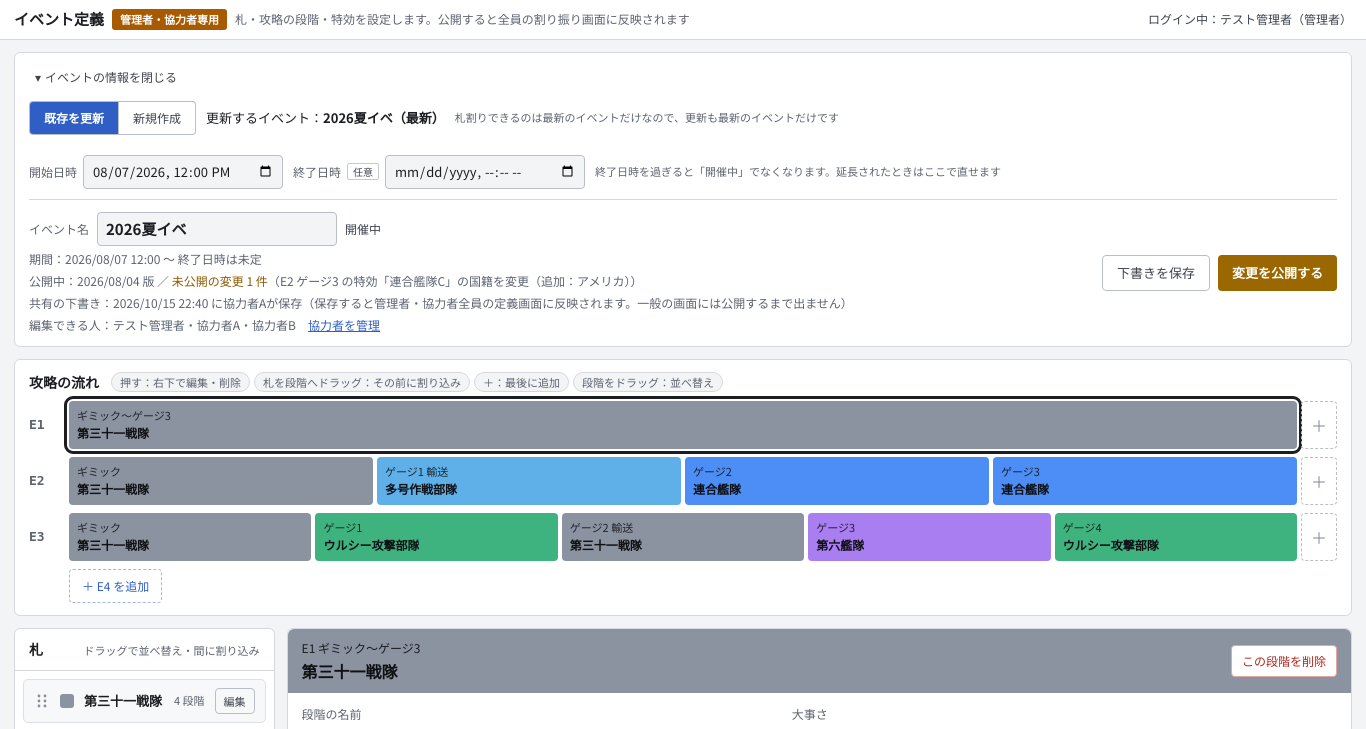
Test: イベント定義の画面（PlanEditor）：特効グループの艦種（v1.1。国籍の条件を絞る） › 艦種を選ぶ欄（「＋ 艦種」） › 「＋ 艦種」で艦種を選ぶ欄を開き、19 個のチェックボックスを表示名で、戦艦・航戦・正空…工作の順に並べる
Check: the element "攻略の流れ" is shown, box [14,358,1352,616]
What coordinates should you click on to do the following:
click the button "ゲージ3 連合艦隊"
I would click on:
 (1020, 470)
Its box is [993,456,1297,504].
(page scrolled)
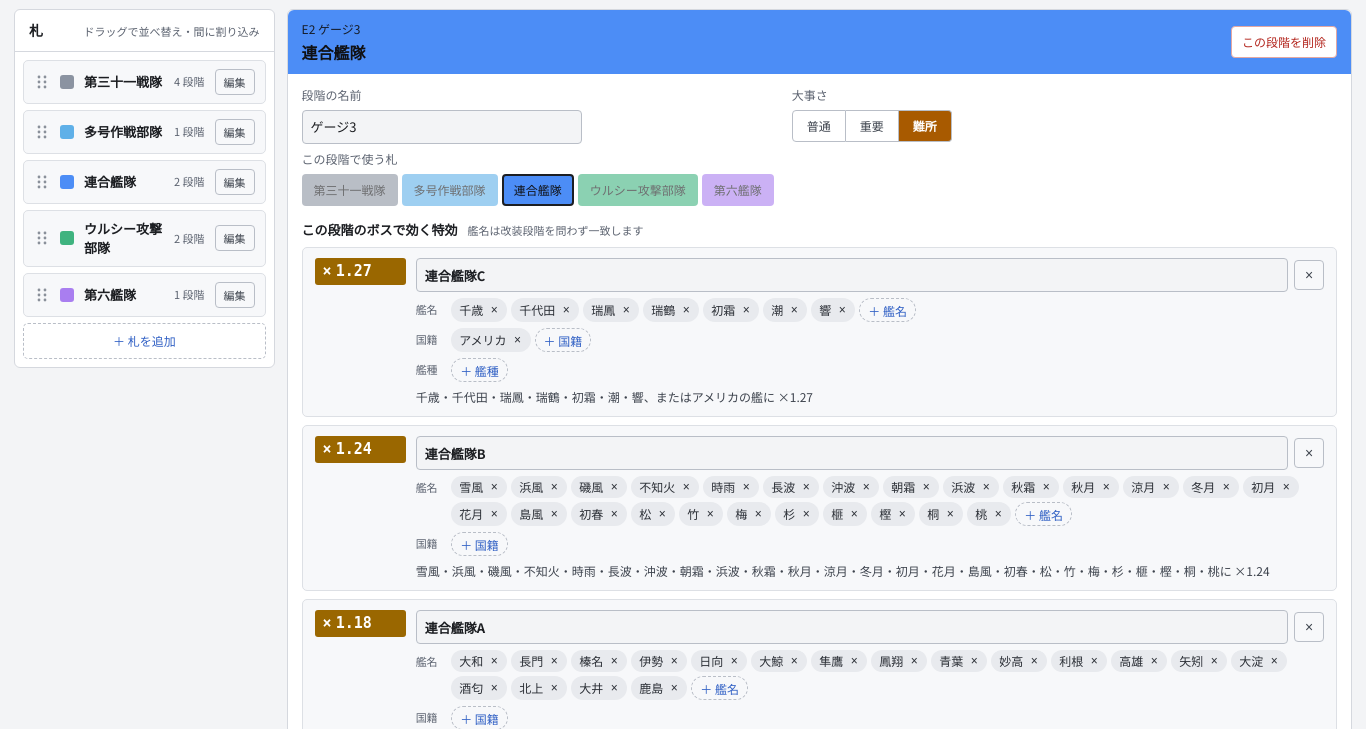
What coordinates should you click on to do the following:
click the button "＋ 艦種"
I would click on:
 (479, 370)
Its box is [451,358,508,382].
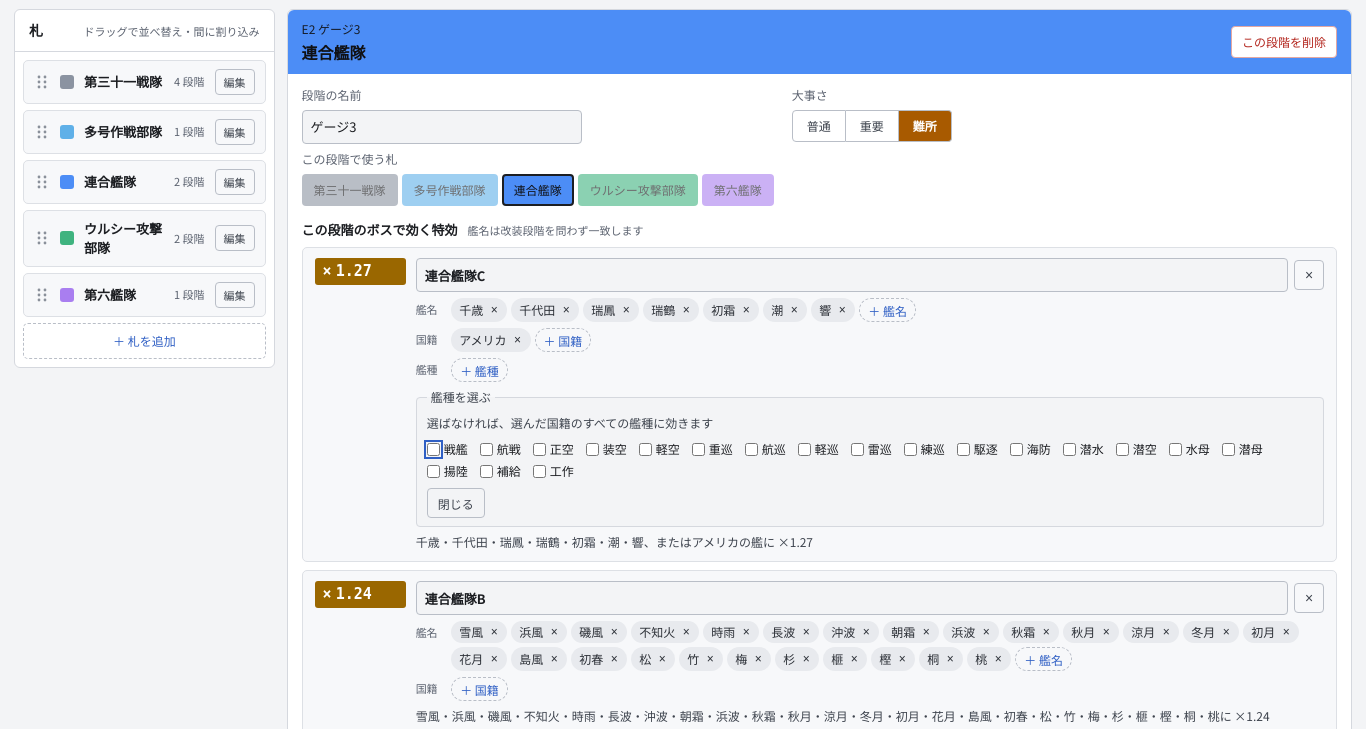
Check: the number of checkboxes is 19
Check: the checkbox labelled "戦艦" is not checked, box [427,442,440,456]
Check: the checkbox labelled "航戦" is not checked, box [480,442,493,456]
